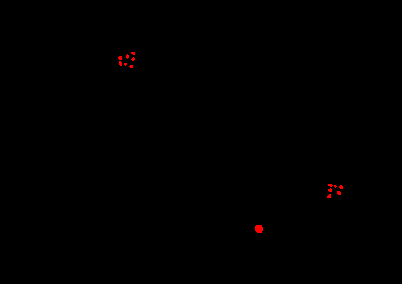Target: (255, 225, 263, 233), (118, 56, 122, 60), (131, 57, 135, 61), (339, 185, 343, 189), (328, 188, 332, 192), (337, 191, 341, 195), (327, 194, 331, 198), (126, 54, 129, 59), (119, 61, 122, 66), (328, 184, 333, 187), (131, 52, 135, 55), (129, 65, 133, 68), (124, 63, 127, 66), (334, 185, 337, 188)
